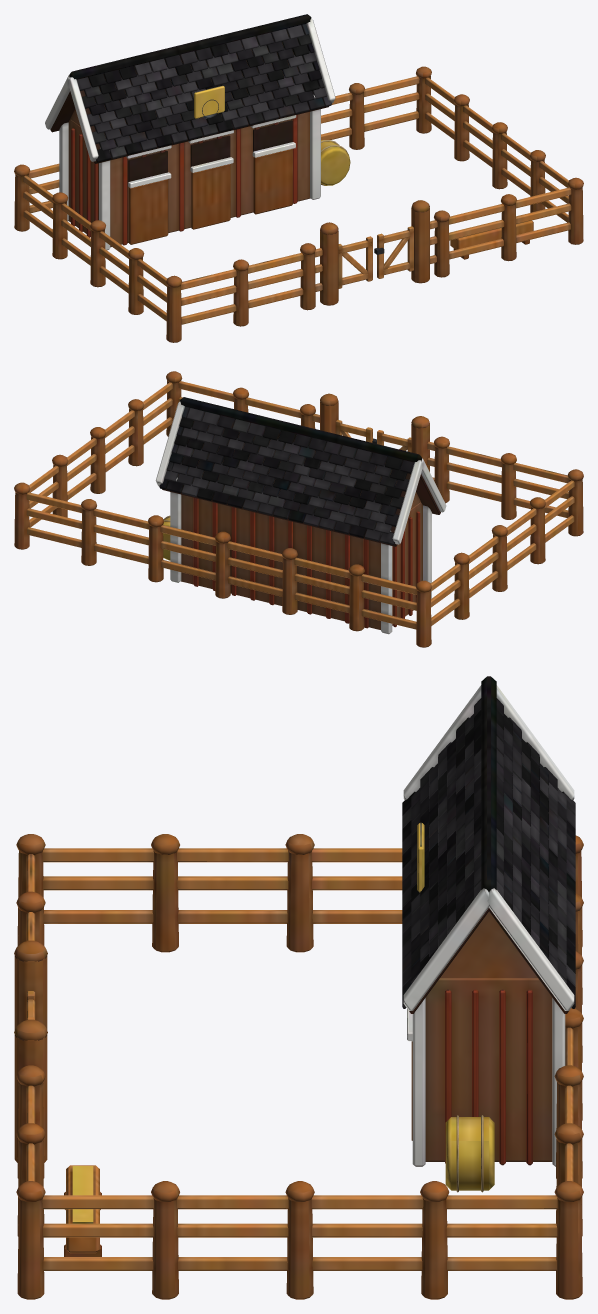
Rendered from friesian_stable.glb.
The picture shows the model from 3 angles, top to bottom: view 1: azimuth 30°, elevation 25°; view 2: azimuth 150°, elevation 25°; view 3: azimuth 270°, elevation 25°; orthographic projection. The views are drawn at different scales.
Parts seen in each view (by area): view 1: friesian_stable, gate1, gate0; view 2: friesian_stable, gate1, gate0; view 3: friesian_stable.
Part boxes in pixels (left/top/right/bottom): friesian_stable: left=14, top=14, right=583, bottom=342; gate1: left=374, top=226, right=413, bottom=278; gate0: left=338, top=236, right=372, bottom=288; friesian_stable: left=14, top=371, right=583, bottom=647; gate1: left=335, top=420, right=376, bottom=443; gate0: left=377, top=430, right=411, bottom=452; friesian_stable: left=14, top=676, right=583, bottom=1299.
Size of the model in its own units: 3 by 1.16 by 2.01.
Materials: 1 (1 with a texture image).
